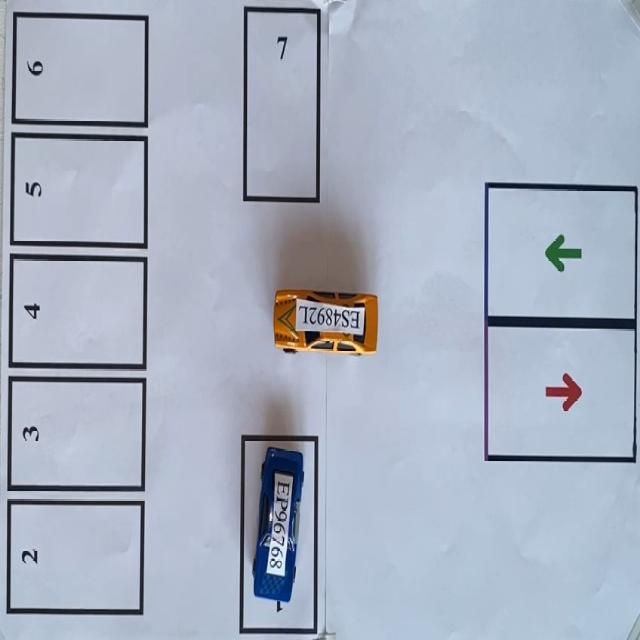car: (253, 447, 303, 610), (273, 290, 378, 354)
